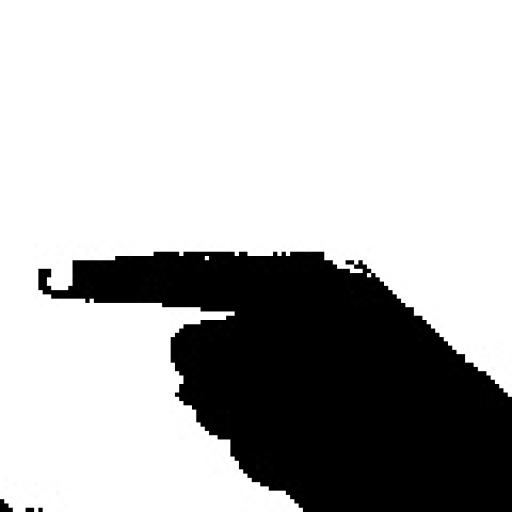index_left: (38, 249, 512, 453)
